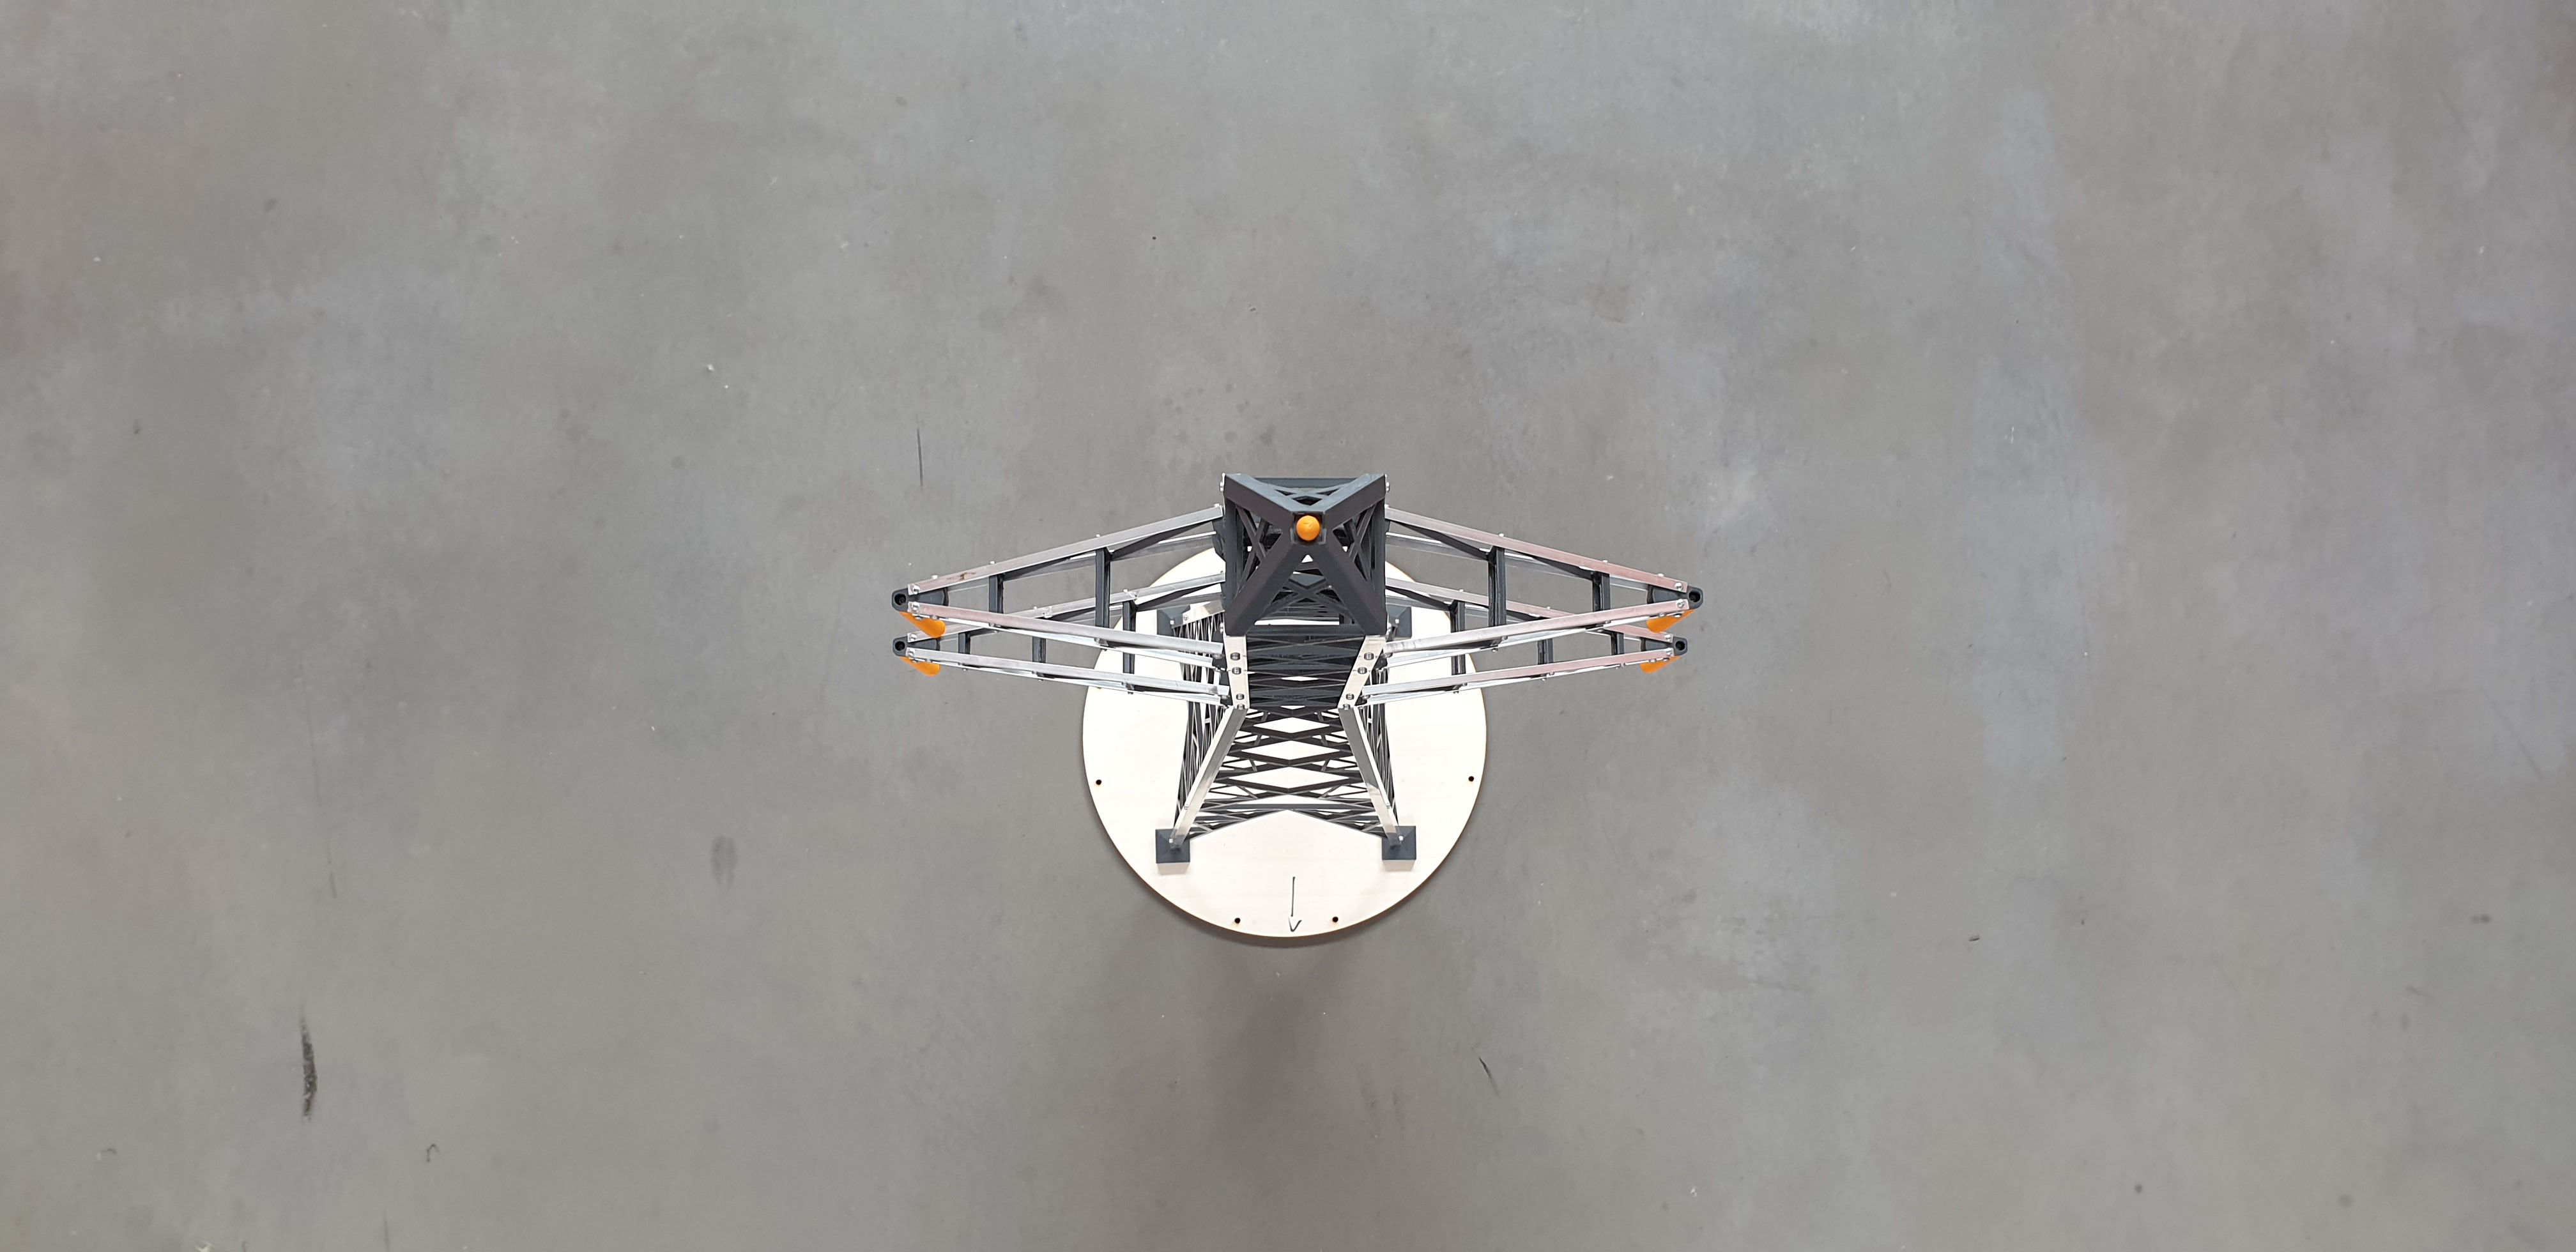pylon_phy: (887, 465, 1709, 674)
